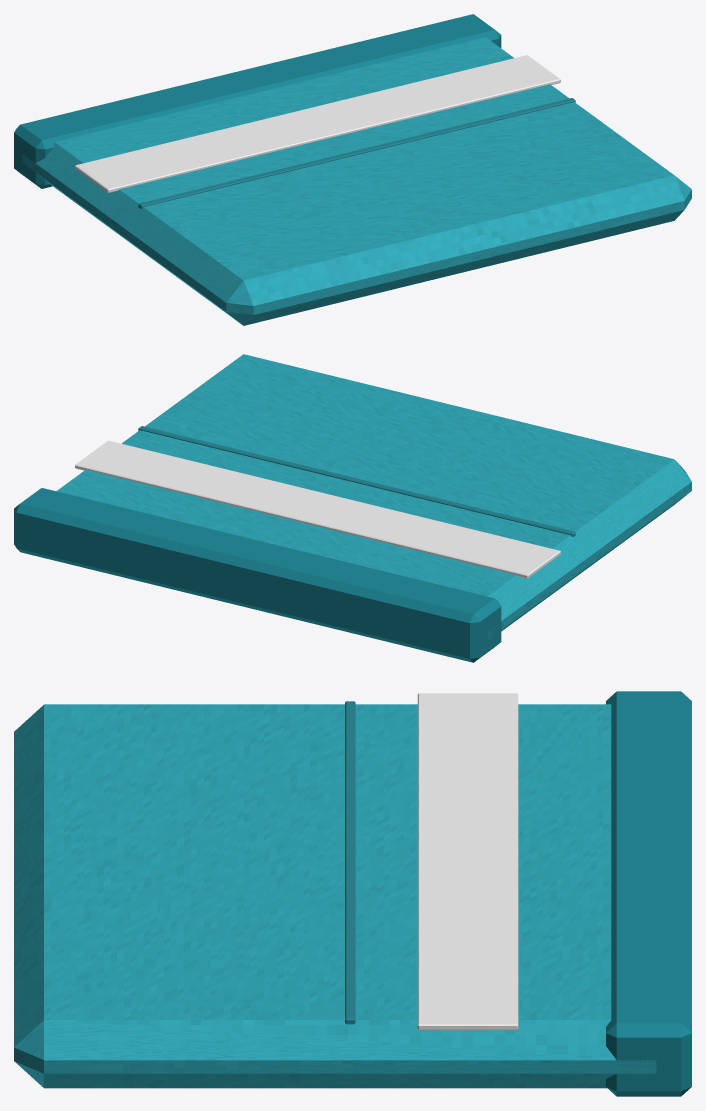
The model's file is b_shorts.glb.
3 views of the same model, one above another, from view 1: azimuth 30°, elevation 25°; view 2: azimuth 150°, elevation 25°; view 3: azimuth 270°, elevation 25° (orthographic). The views are drawn at different scales.
Parts seen in each view (by area): view 1: block_body, block_stripe, block_waist, block_fold; view 2: block_body, block_waist, block_stripe, block_fold; view 3: block_body, block_stripe, block_waist, block_fold.
Boxes of the visible parts, box(x1,y1,x2,y2) form: block_body: box(22, 37, 691, 325); block_stripe: box(75, 55, 560, 192); block_waist: box(14, 14, 501, 188); block_fold: box(138, 98, 575, 208); block_body: box(56, 354, 691, 639); block_waist: box(14, 488, 501, 662); block_stripe: box(75, 440, 560, 578); block_fold: box(138, 426, 575, 536); block_body: box(14, 704, 656, 1088); block_stripe: box(417, 693, 518, 1030); block_waist: box(606, 691, 691, 1096); block_fold: box(345, 701, 355, 1024).
Bounding box in the file's own units: 0.3 × 0.03 × 0.252.
1 material, 1 textured.
